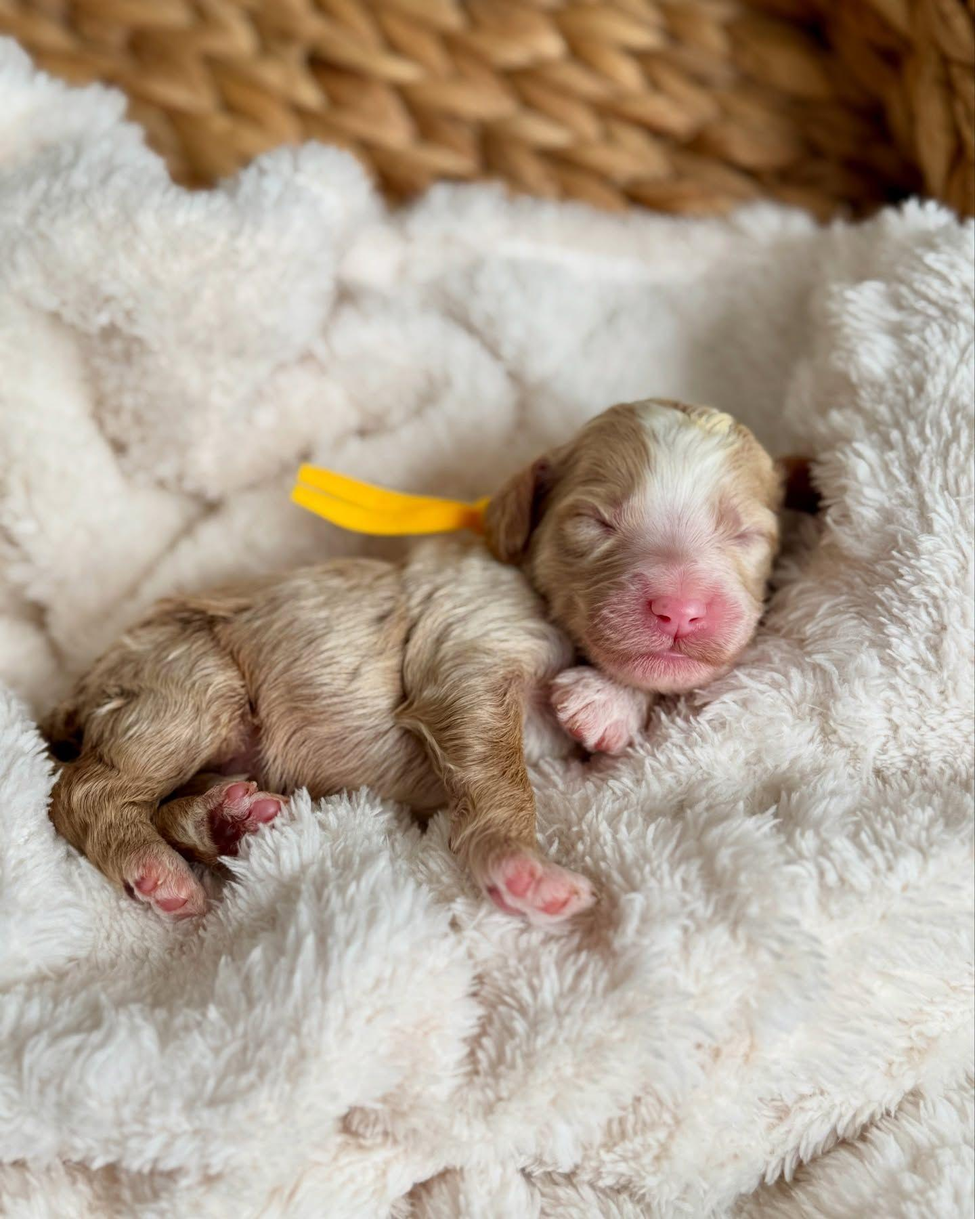puppy-dog: (37, 394, 815, 931)
